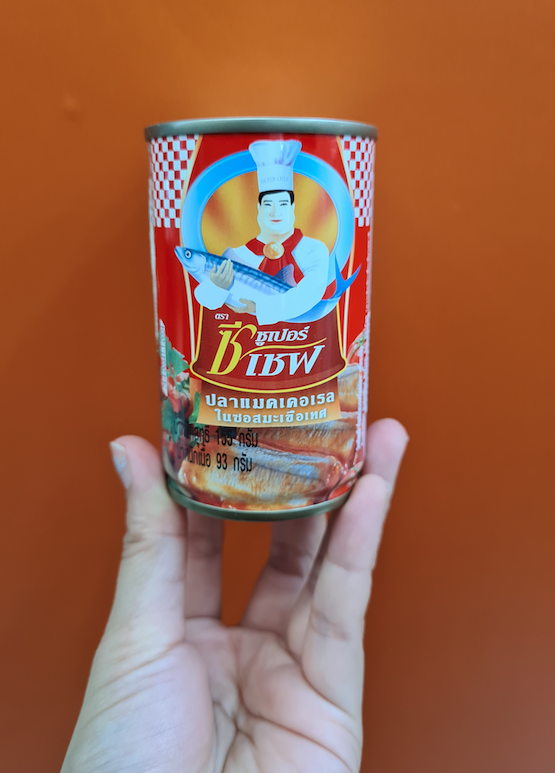Canned_Sardines_and_Mackerel: (149, 122, 362, 494)
